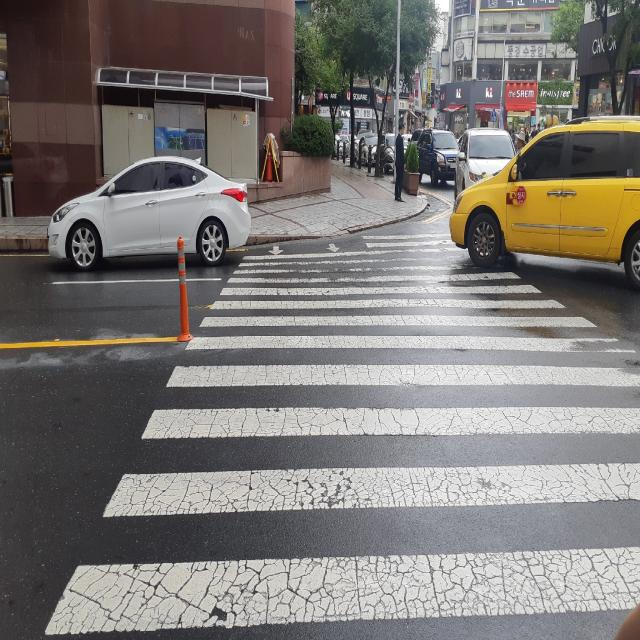횡단보도: (43, 230, 640, 640)
